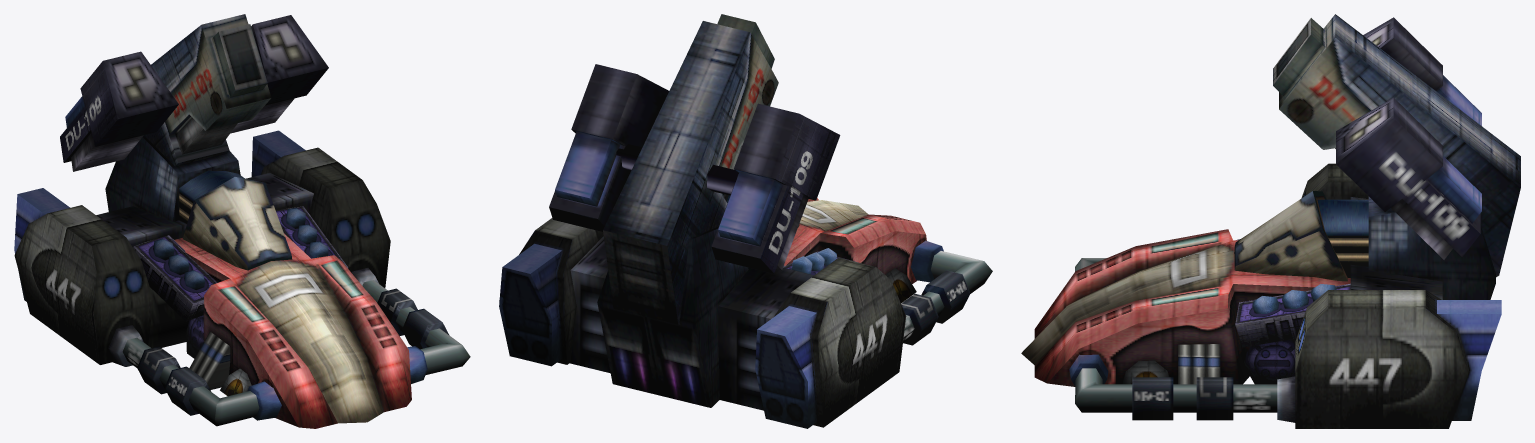
File: datan_common_B0003_b3152bc5.obj
3 views of the same model, side by side, from view 1: azimuth 30°, elevation 25°; view 2: azimuth 150°, elevation 25°; view 3: azimuth 270°, elevation 25° (orthographic). The views are drawn at different scales.
Visible parts, largest first — view 1: datan_common_B0003_b3152bc5_mesh00; view 2: datan_common_B0003_b3152bc5_mesh00; view 3: datan_common_B0003_b3152bc5_mesh00.
Part boxes in pixels (x1,y1,x2,y2): datan_common_B0003_b3152bc5_mesh00: (14,14,470,428); datan_common_B0003_b3152bc5_mesh00: (499,14,992,428); datan_common_B0003_b3152bc5_mesh00: (1021,14,1520,428).
Bounding box in the file's own units: 5.55 × 5.52 × 7.38.
Materials: 1 (1 with a texture image).
